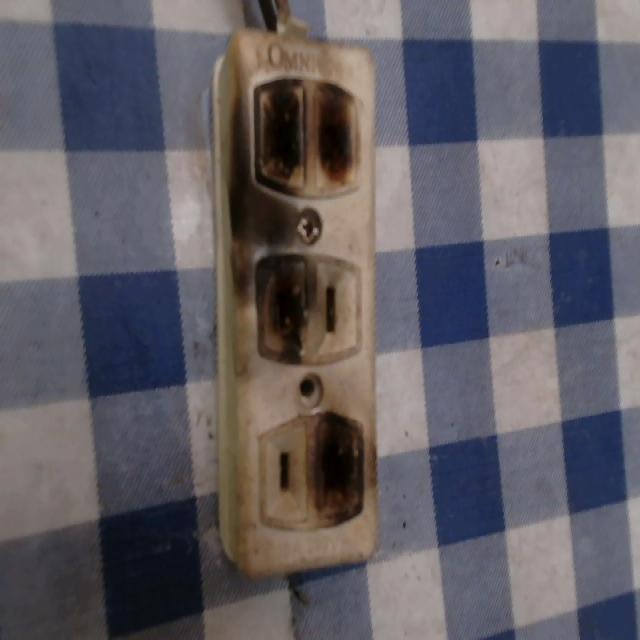-: (244, 72, 367, 200), (244, 248, 314, 367), (312, 411, 374, 524)
